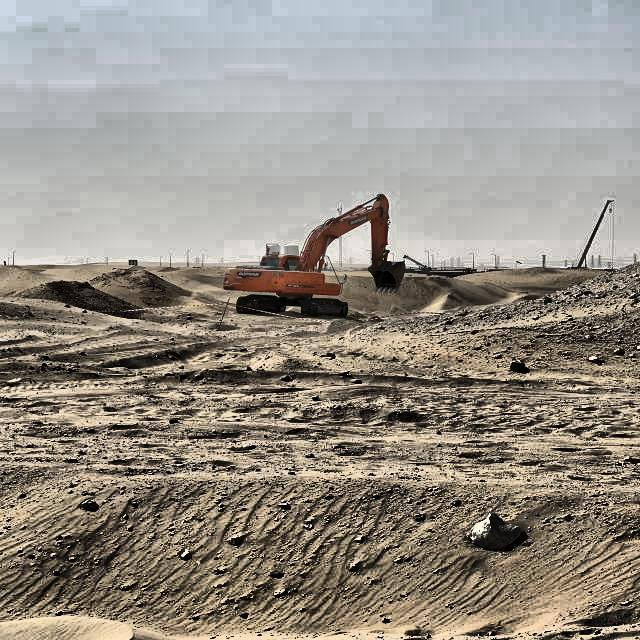excavator: (220, 187, 407, 320)
